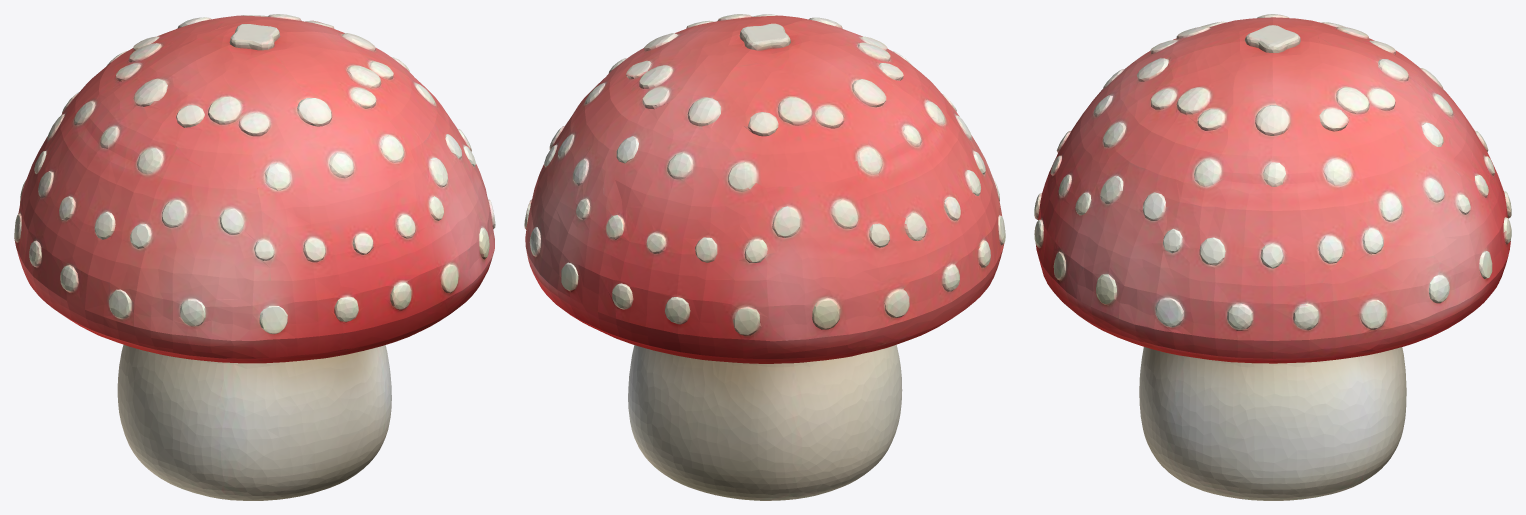
File: mantar.glb
3 renders of one model, left to right at view 1: azimuth 30°, elevation 25°; view 2: azimuth 150°, elevation 25°; view 3: azimuth 270°, elevation 25°, orthographic.
Parts seen in each view (by area): view 1: world; view 2: world; view 3: world.
Part boxes in pixels (x1=…): world: x1=14, y1=14, x2=495, y2=500; world: x1=524, y1=14, x2=1005, y2=500; world: x1=1034, y1=14, x2=1511, y2=500.
Size of the model in its own units: 0.9912 by 0.9951 by 0.992.
Materials: 1 (1 with a texture image).
